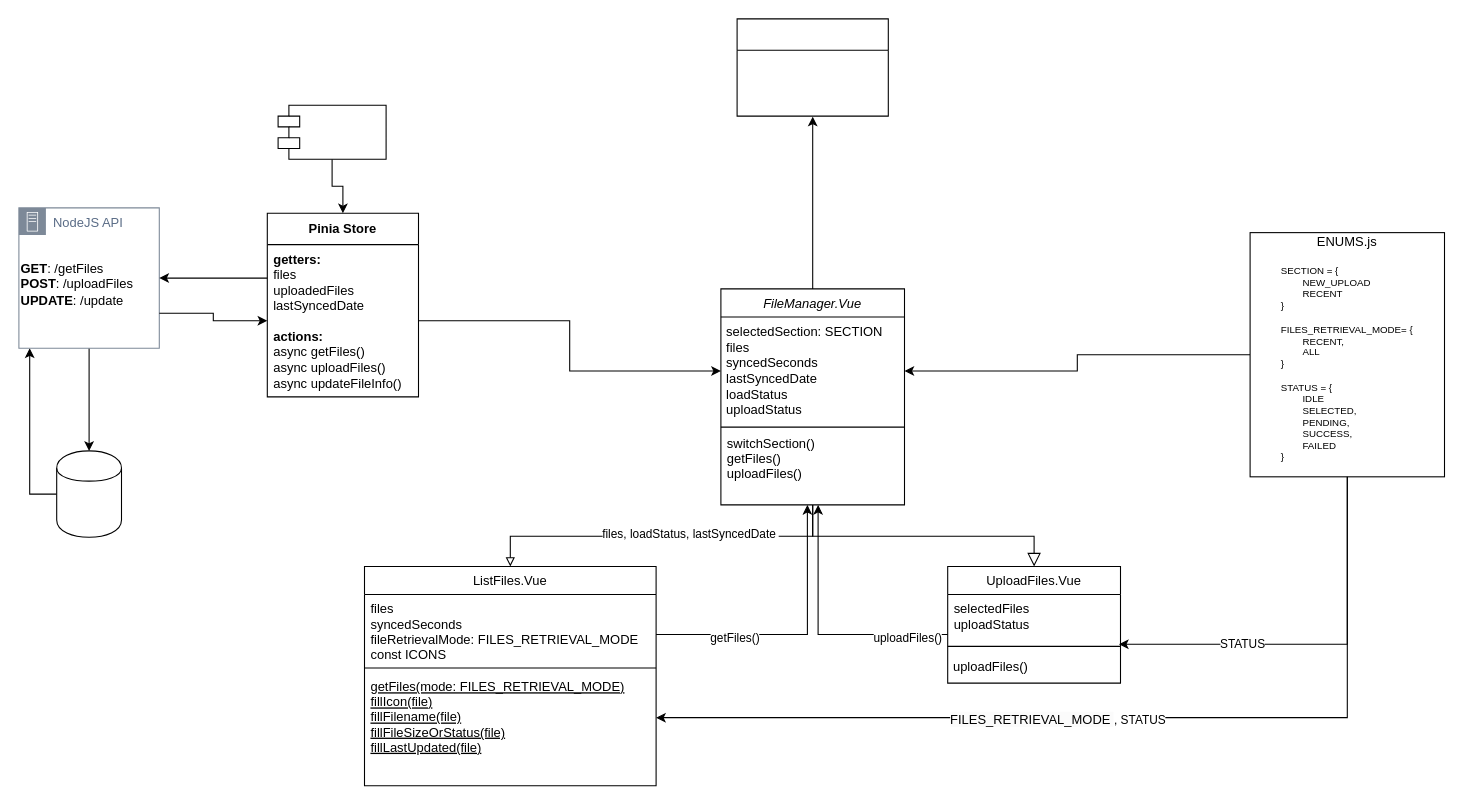
Some shapes in this 1463 by 805 pixel diagram are drawn without their labels. Here are the shapes that lost their labels. From the top down, the centre of each, then its label:
At (812,67): "App.Vue".
At (331,131): "AXIOS".
At (89,493): "MySQL".
